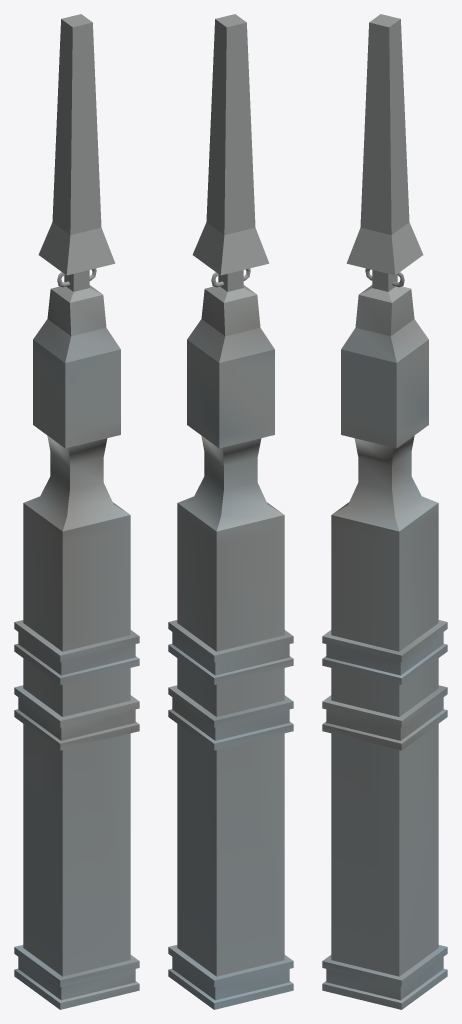
3 renders of one model, left to right at view 1: azimuth 30°, elevation 25°; view 2: azimuth 210°, elevation 25°; view 3: azimuth 330°, elevation 25°, orthographic.
Parts seen in each view (by area): view 1: G:\FFXIV-MapTools\exports\w1f3\bg\ffxiv\wil_w1\fld\w1f3\bgpa (×3); view 2: G:\FFXIV-MapTools\exports\w1f3\bg\ffxiv\wil_w1\fld\w1f3\bgpa (×3); view 3: G:\FFXIV-MapTools\exports\w1f3\bg\ffxiv\wil_w1\fld\w1f3\bgpa (×3).
Boxes of the visible parts, x1,y1,x2,y2 form: G:\FFXIV-MapTools\exports\w1f3\bg\ffxiv\wil_w1\fld\w1f3\bgpa (×3): (14, 14, 139, 1009); G:\FFXIV-MapTools\exports\w1f3\bg\ffxiv\wil_w1\fld\w1f3\bgpa (×3): (168, 14, 293, 1009); G:\FFXIV-MapTools\exports\w1f3\bg\ffxiv\wil_w1\fld\w1f3\bgpa (×3): (322, 14, 447, 1009).
Size of the model in its own units: 1 by 11.57 by 1.
